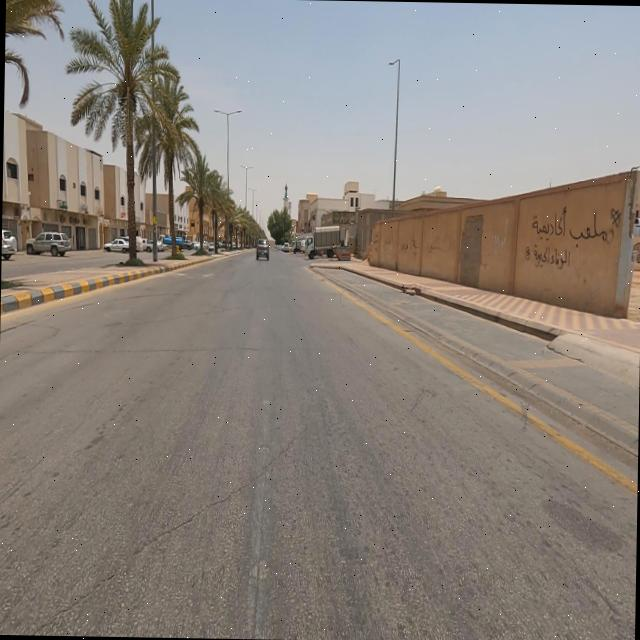Graffiti: (524, 206, 621, 271), (492, 216, 511, 251), (427, 234, 453, 255), (400, 240, 420, 258), (373, 234, 379, 254)
